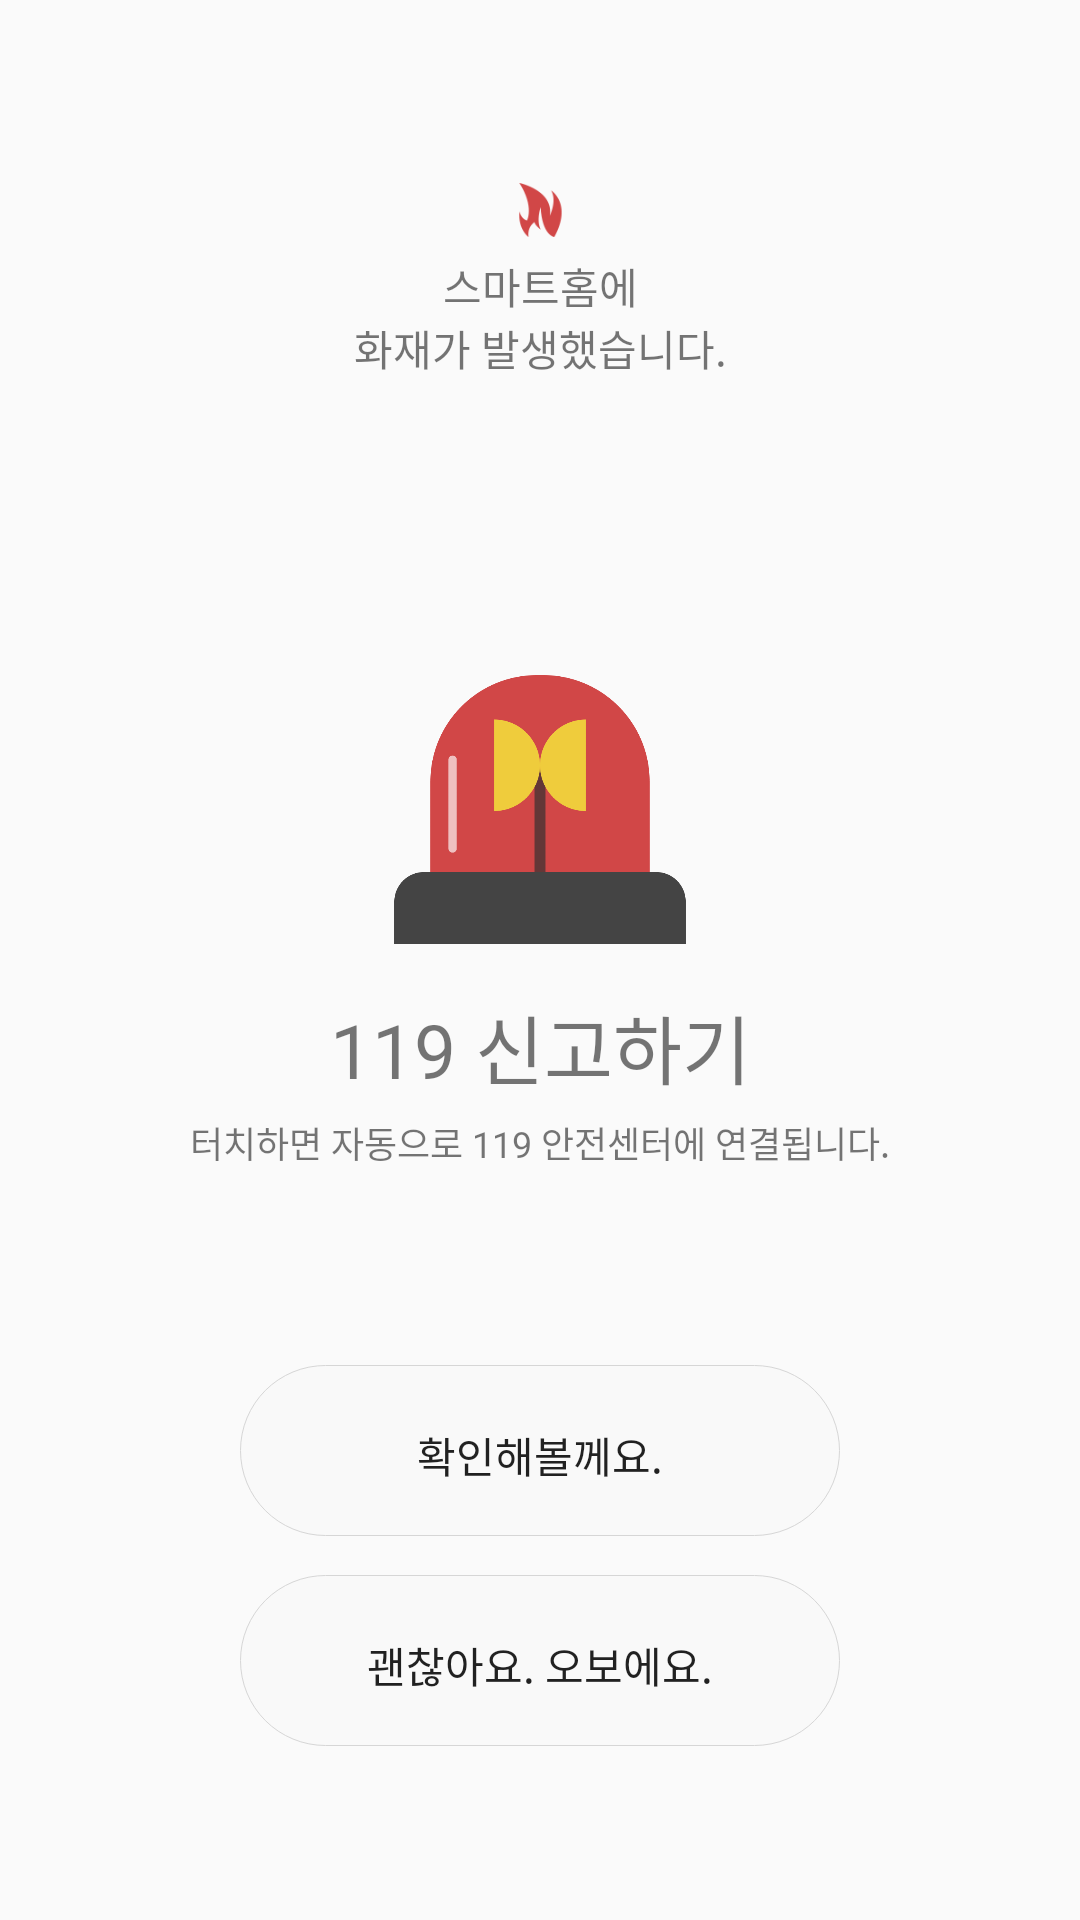

Locate icon controls on the screen. Image size 1080*1920, boxes as (x1, y1, x2, y2).
fire: (519, 183, 562, 237)
siren: (394, 675, 686, 944)
